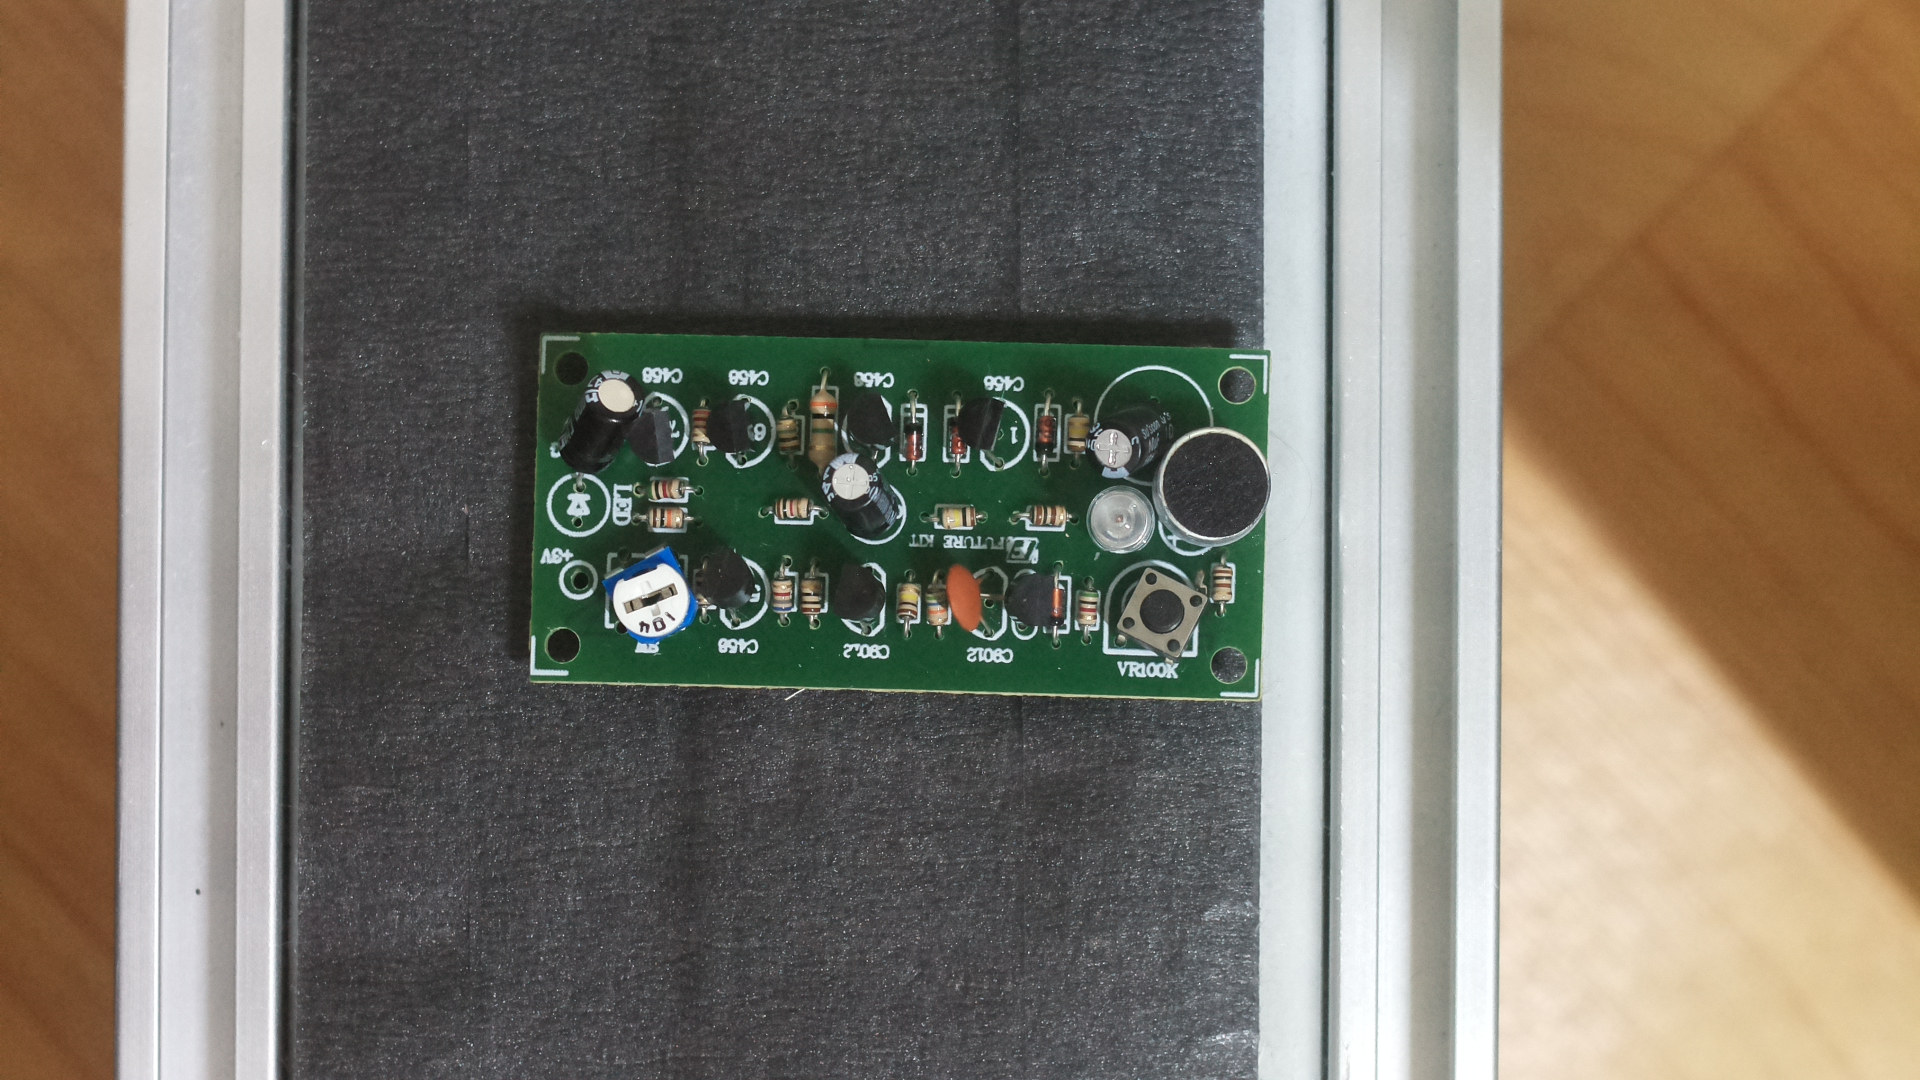A_Misordered: (516, 314, 1278, 729)
